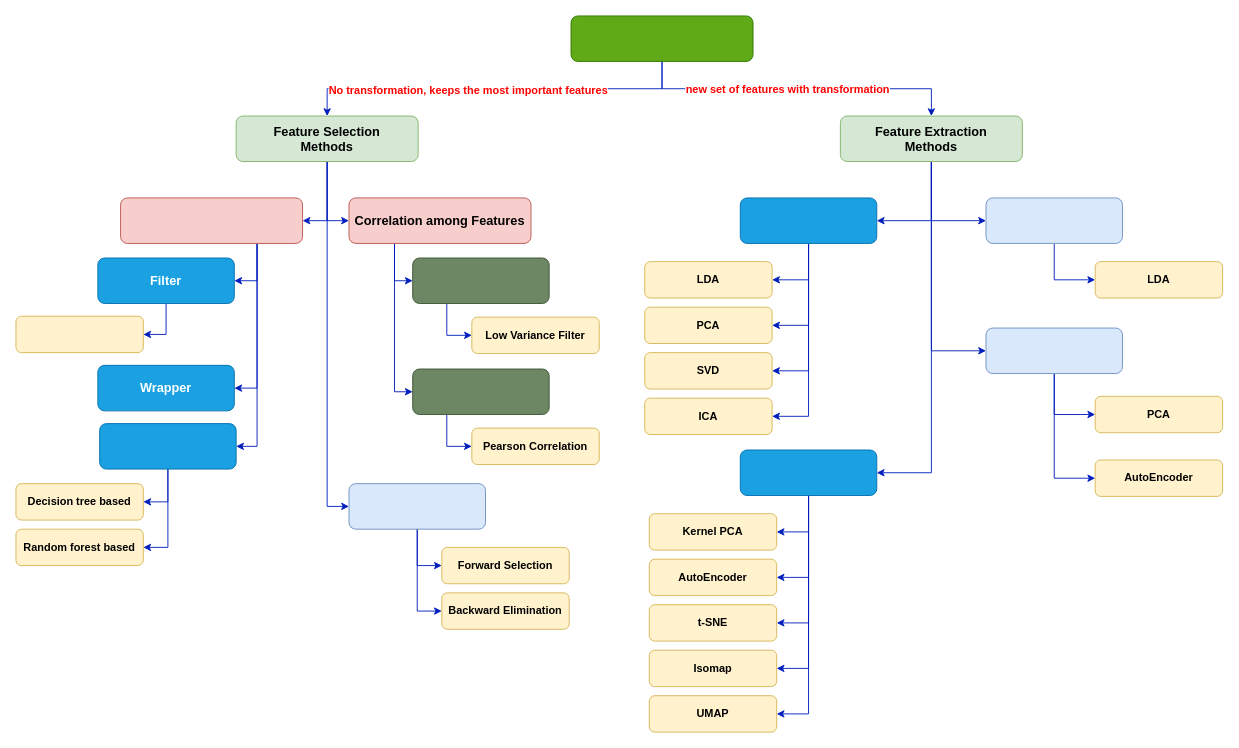
This 1239x748 diagram has some shape labels left out. The shapes that lost their labels are listed below. From the top down, each one's box as (x1, y1, x2, y2) in pixels, then its label:
(570, 15, 753, 61): Dimensionality Reduction Methods
(120, 197, 303, 243): Correlation between Features and Targets
(739, 197, 877, 243): Linear
(985, 197, 1122, 243): Supervised
(412, 257, 549, 303): Univariate Analysis
(15, 315, 143, 353): High Correlation Filter
(985, 327, 1122, 374): Unsupervised
(412, 368, 549, 415): Bivariate Analysis
(99, 423, 236, 469): Embedded
(739, 449, 877, 495): Non-linear
(348, 483, 485, 529): Direction-wise
